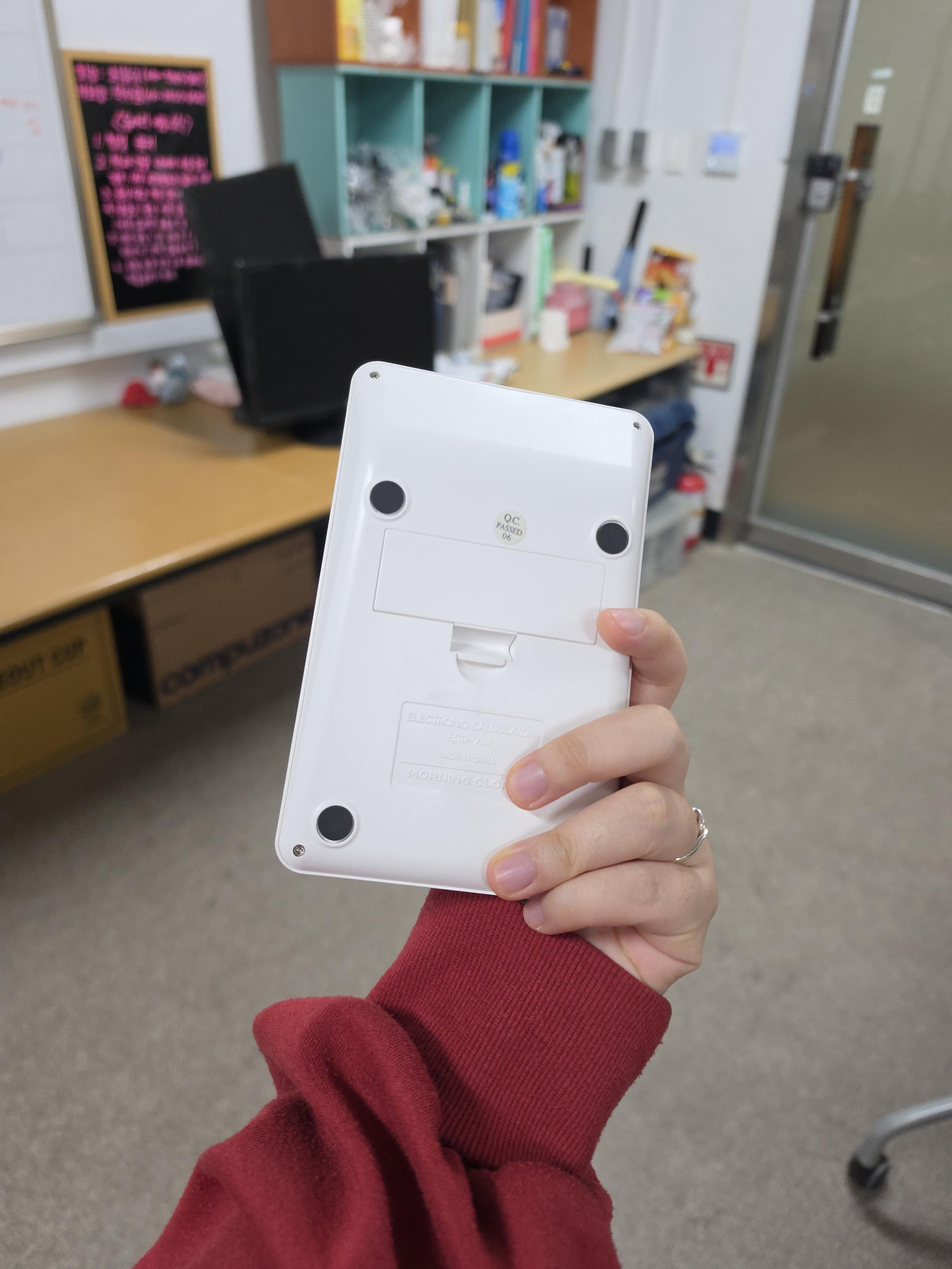calculator: (274, 361, 654, 898)
